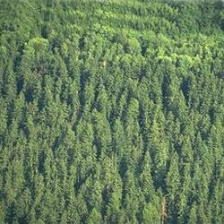neutral: (2, 1, 222, 224)
